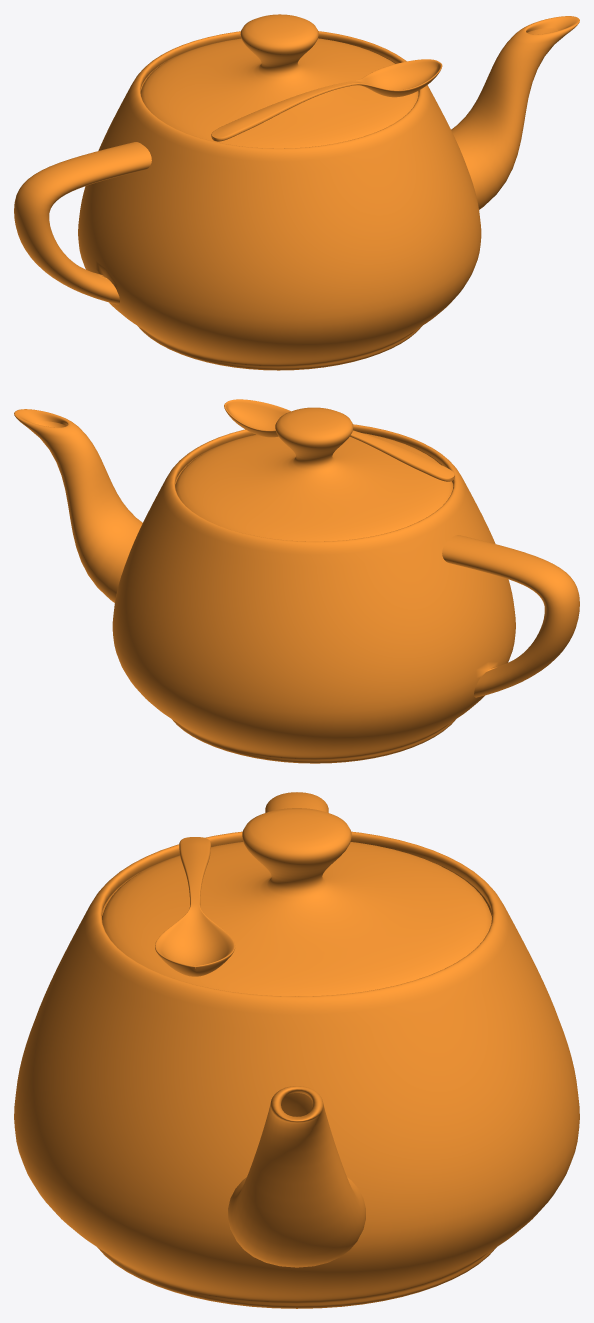
Rendered from Teapot.glb.
3 renders of one model, top to bottom at view 1: azimuth 30°, elevation 25°; view 2: azimuth 150°, elevation 25°; view 3: azimuth 270°, elevation 25°, orthographic. The views are drawn at different scales.
Parts seen in each view (by area): view 1: Teapot.002, Teapot.003, Teapot.001; view 2: Teapot.002, Teapot.003, Teapot.001; view 3: Teapot.002, Teapot.003, Teapot.001.
Part boxes in pixels (left/top/right/bottom): Teapot.002: left=14, top=16, right=579, bottom=370; Teapot.003: left=140, top=14, right=418, bottom=148; Teapot.001: left=211, top=59, right=442, bottom=141; Teapot.002: left=14, top=409, right=579, bottom=763; Teapot.003: left=175, top=407, right=453, bottom=541; Teapot.001: left=224, top=399, right=454, bottom=481; Teapot.002: left=14, top=792, right=579, bottom=1308; Teapot.003: left=102, top=808, right=491, bottom=996; Teapot.001: left=155, top=837, right=235, bottom=976.
Size of the model in its own units: 6.43 by 3.2 by 4.
